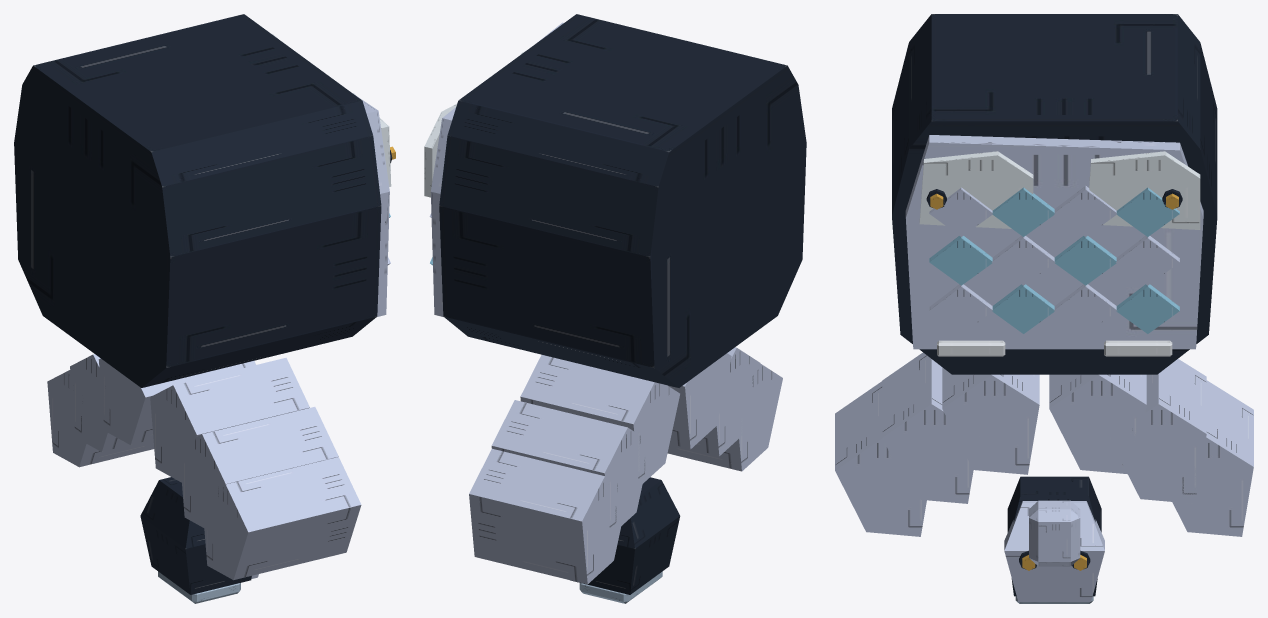
File: mirrorweave.glb
3 views of the same model, side by side, from view 1: azimuth 30°, elevation 25°; view 2: azimuth 150°, elevation 25°; view 3: azimuth 270°, elevation 25° (orthographic). The views are drawn at different scales.
Parts seen in each view (by area): view 1: chest, arm_R, arm_L, forearm_L; view 2: chest, arm_L, arm_R, forearm_L; view 3: chest, arm_L, arm_R, forearm_L.
Boxes of the visible parts, box(x1,y1,x2,y2) form: chest: box(14, 14, 395, 387); arm_R: box(150, 357, 361, 580); arm_L: box(47, 354, 255, 467); forearm_L: box(140, 477, 258, 603); chest: box(424, 14, 806, 387); arm_L: box(469, 355, 679, 584); arm_R: box(667, 347, 782, 471); forearm_L: box(570, 477, 680, 603); chest: box(892, 14, 1217, 374); arm_L: box(1029, 359, 1253, 566); arm_R: box(835, 352, 1039, 536); forearm_L: box(1004, 476, 1104, 603).
Bounding box in the file's own units: 0.274 × 0.5405 × 0.391.
7 materials, 7 textured.
